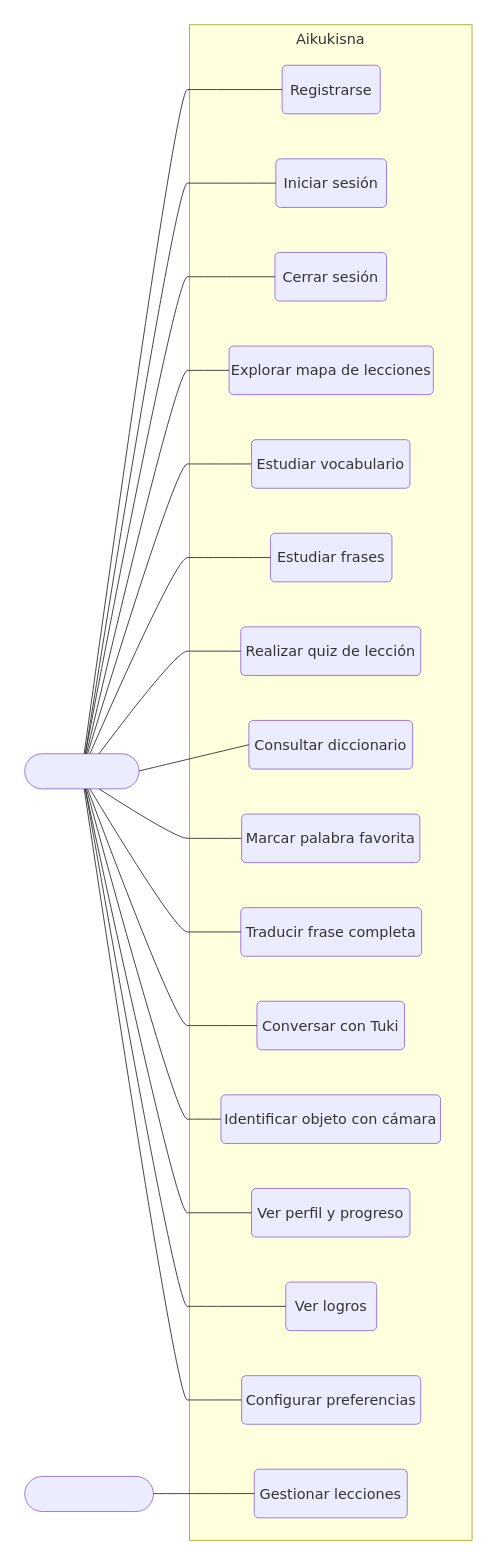
Some shapes in this 488 by 1556 pixel diagram are drawn without their labels. The shapes that lost their labels are listed below. From the top down, each one's centre as x and y in pixels, then its label:
point 81,771: 👤 Estudiante
point 88,1494: 👤 Superusuario
